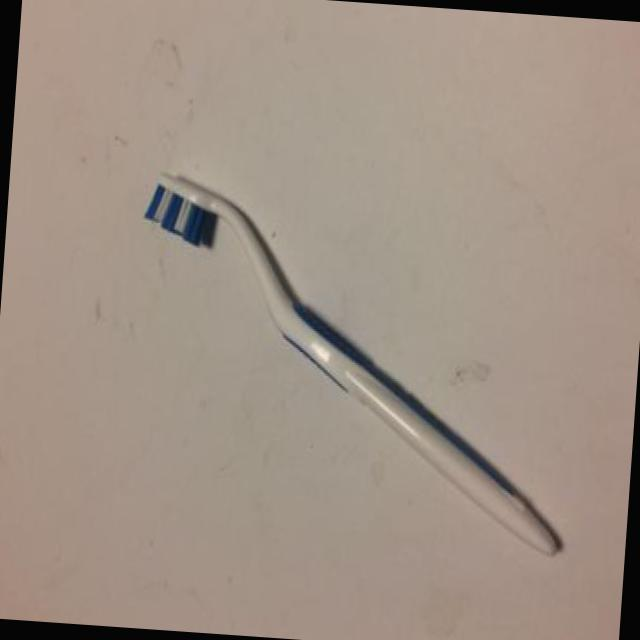nhua: (152, 173, 563, 557)
